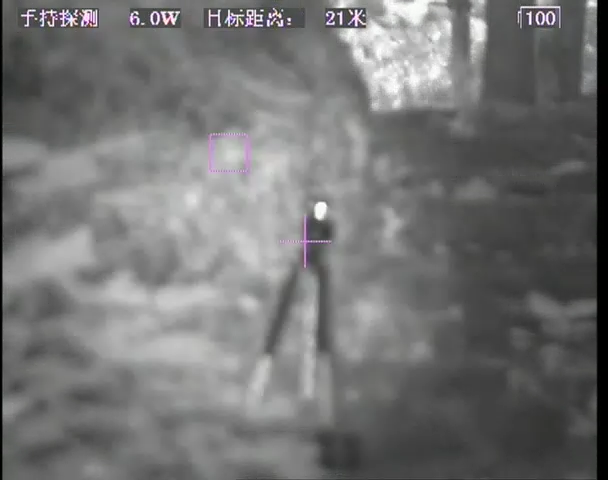my: (310, 200, 334, 222)
